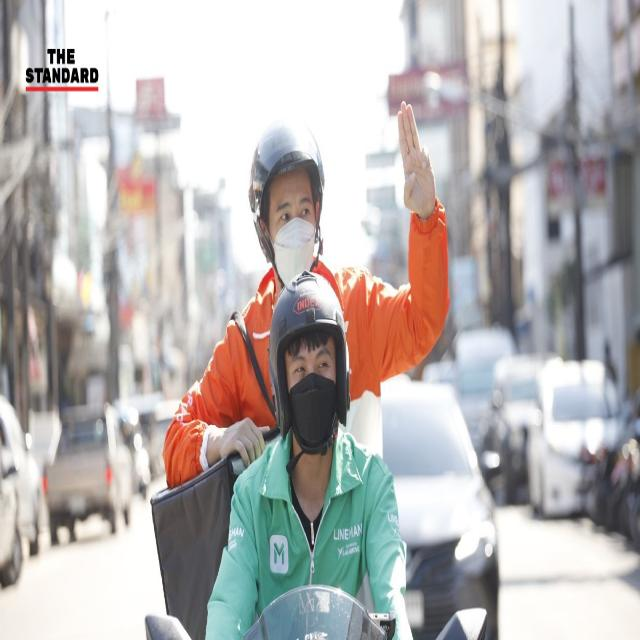helmet: (266, 264, 354, 464), (244, 111, 329, 295)
